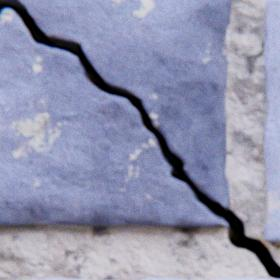brick: (264, 1, 279, 242), (215, 278, 279, 279), (145, 278, 183, 279), (43, 278, 74, 279)
broken_brick: (0, 10, 227, 227), (3, 0, 231, 209)
crack: (0, 0, 279, 278)
